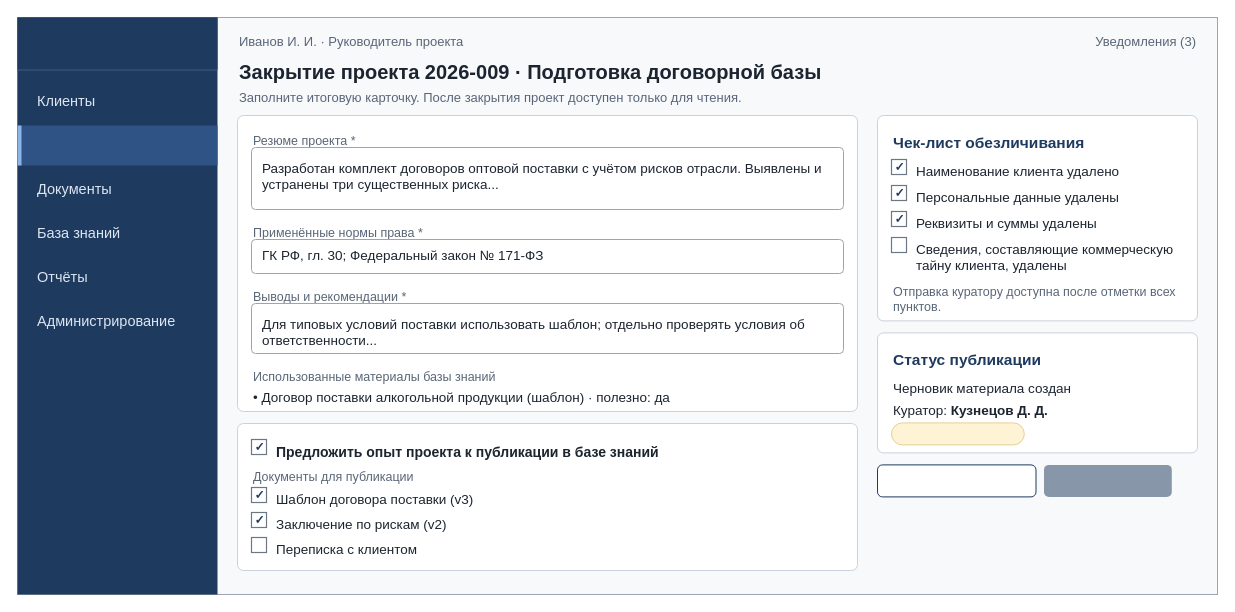
This 1235x612 diagram has some shape labels left out. The box of each missing label's shape, as (x1, y1, x2, y2) in pixels:
Закрыть проект: (1044, 464, 1171, 496)
ИС ППР: (17, 17, 217, 69)
Ожидает отправки: (890, 422, 1024, 445)
Проекты: (17, 125, 217, 165)
Сохранить черновик: (876, 464, 1036, 497)
